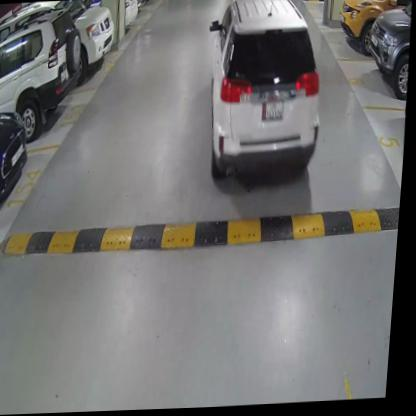np: (262, 99, 288, 123)
